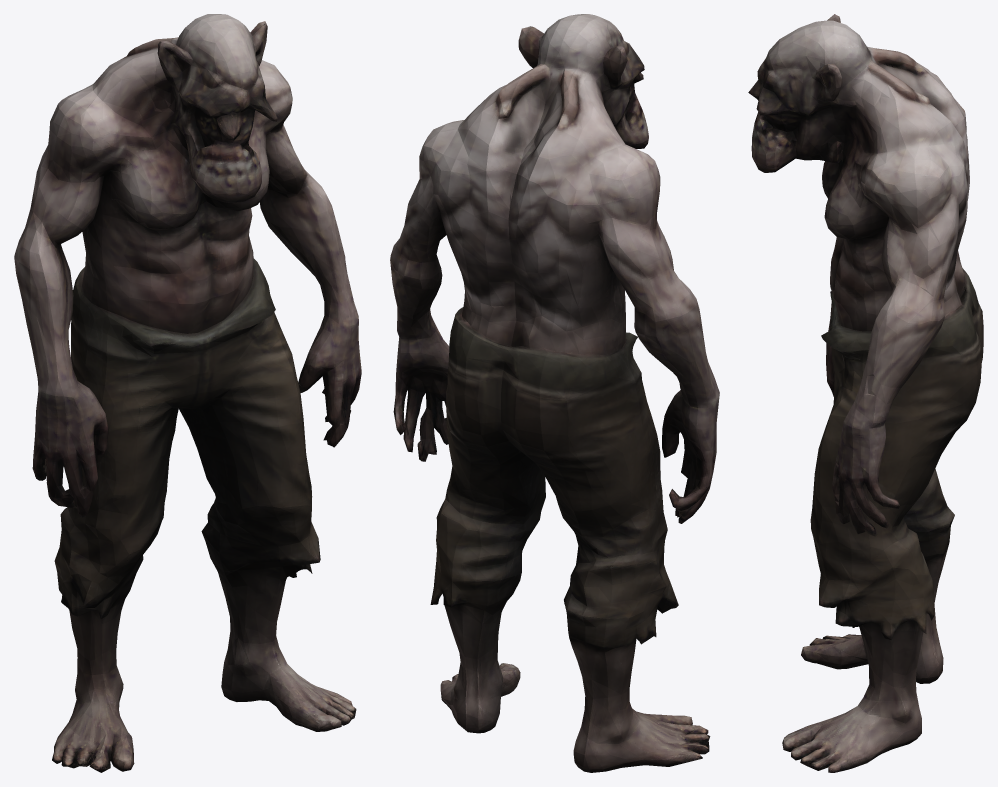
The model's file is spitter-mesh.glb.
3 views of the same model, side by side, from view 1: azimuth 30°, elevation 25°; view 2: azimuth 150°, elevation 25°; view 3: azimuth 270°, elevation 25° (orthographic). The views are drawn at different scales.
Visible parts, largest first — view 1: world; view 2: world; view 3: world.
Part boxes in pixels (x1=…): world: x1=14, y1=14, x2=361, y2=772; world: x1=390, y1=14, x2=719, y2=772; world: x1=748, y1=14, x2=983, y2=772.
Bounding box in the file's own units: 0.4676 × 0.9988 × 0.3103.
Materials: 1 (1 with a texture image).
